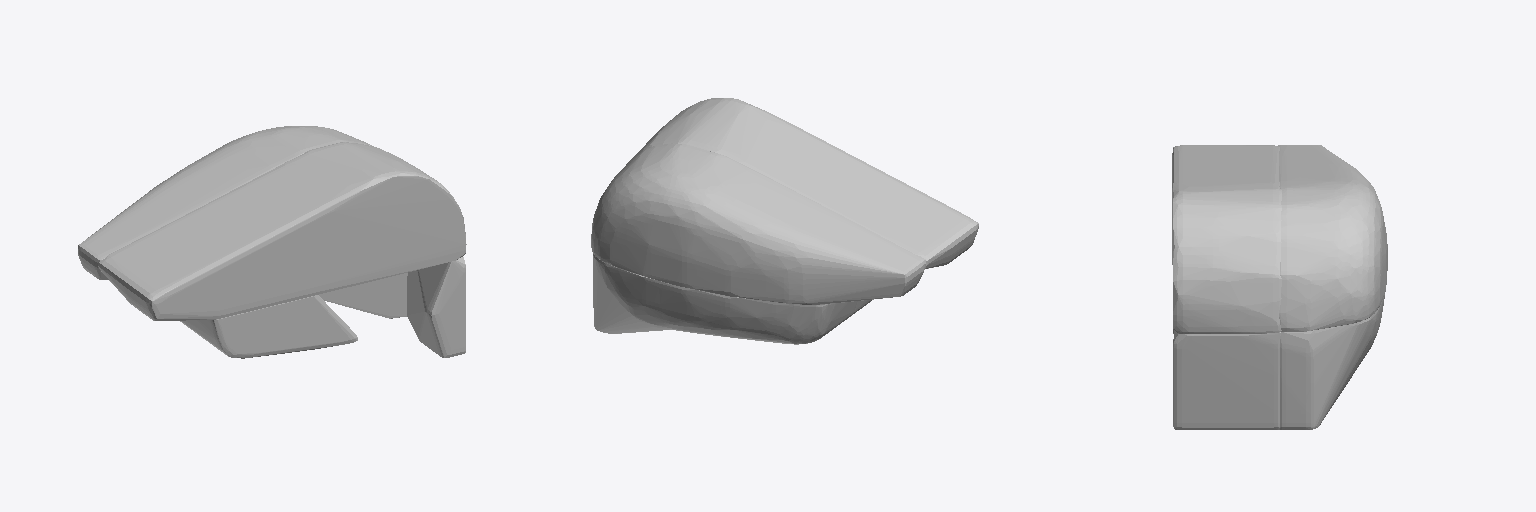
Rendered from shoulder-roll-housing_split.obj.
3 renders of one model, left to right at view 1: azimuth 30°, elevation 25°; view 2: azimuth 150°, elevation 25°; view 3: azimuth 270°, elevation 25°, orthographic.
Visible parts, largest first — view 1: geometry_5, geometry_4, geometry_2, geometry_3, geometry_0; view 2: geometry_4, geometry_5, geometry_1, geometry_0; view 3: geometry_5, geometry_4, geometry_3, geometry_0.
Part boxes in pixels (x1,y1,x2,y2): geometry_5: (98,142,466,320); geometry_4: (78,126,371,279); geometry_2: (180,295,357,358); geometry_3: (407,257,465,357); geometry_0: (319,273,407,318); geometry_4: (591,143,925,304); geometry_5: (626,98,978,268); geometry_1: (659,281,857,344); geometry_0: (593,254,669,333); geometry_5: (1172,145,1281,333); geometry_4: (1278,145,1387,331); geometry_3: (1173,330,1280,429); geometry_0: (1280,291,1385,429).
Size of the model in its own units: 0.1561 by 0.0924 by 0.0914.